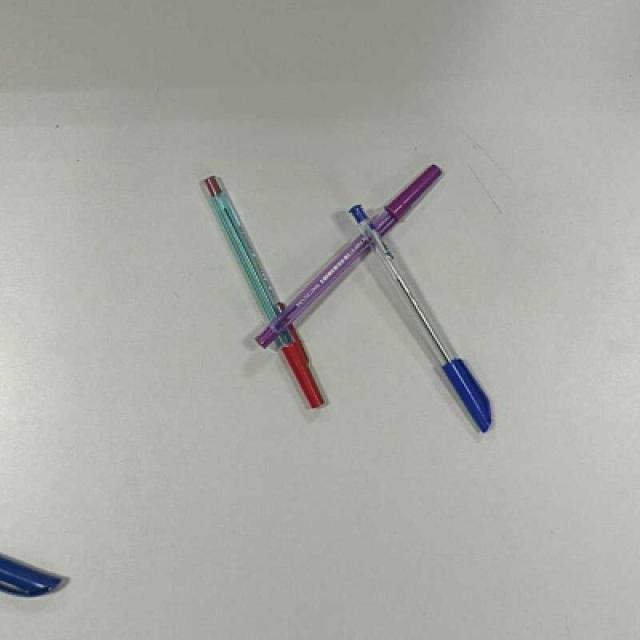caneta: (253, 162, 447, 351), (346, 200, 503, 433), (196, 175, 329, 410)
